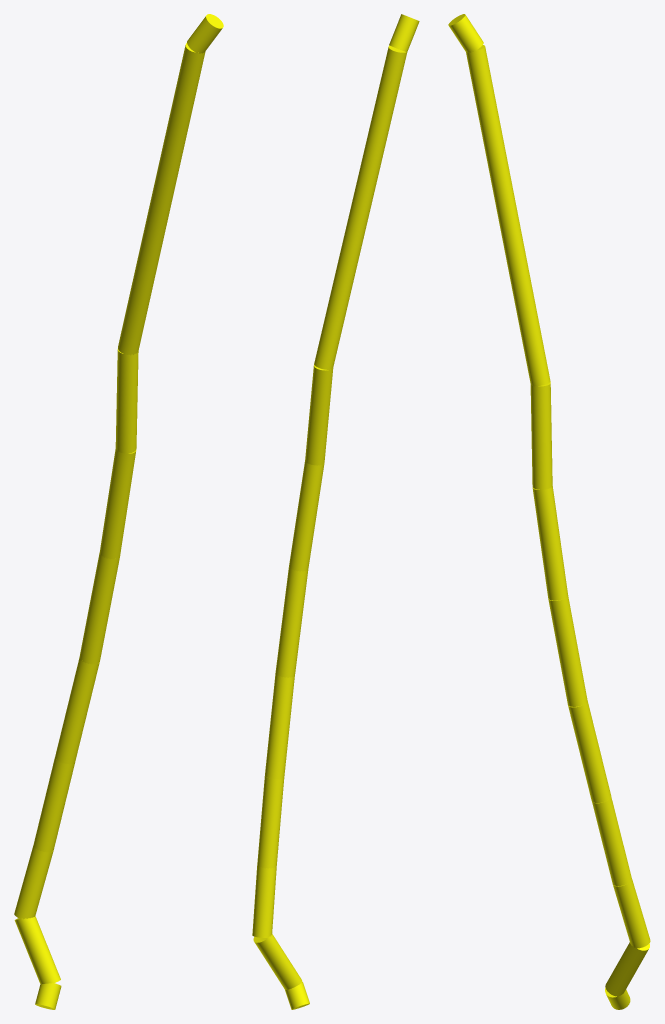
3 views of the same model, side by side, from view 1: azimuth 90°, elevation 25°; view 2: azimuth 150°, elevation 25°; view 3: azimuth 270°, elevation 25° (orthographic). The views are drawn at different scales.
Parts seen in each view (by area): view 1: Cylinder(Clone) (×10); view 2: Cylinder(Clone) (×10); view 3: Cylinder(Clone) (×9).
Part boxes in pixels (left/top/right/bottom): Cylinder(Clone) (×10): left=14, top=14, right=223, bottom=1009; Cylinder(Clone) (×10): left=252, top=14, right=419, bottom=1009; Cylinder(Clone) (×9): left=448, top=14, right=650, bottom=996.
Bounding box in the file's own units: 0.0491 × 0.5324 × 0.0999.
